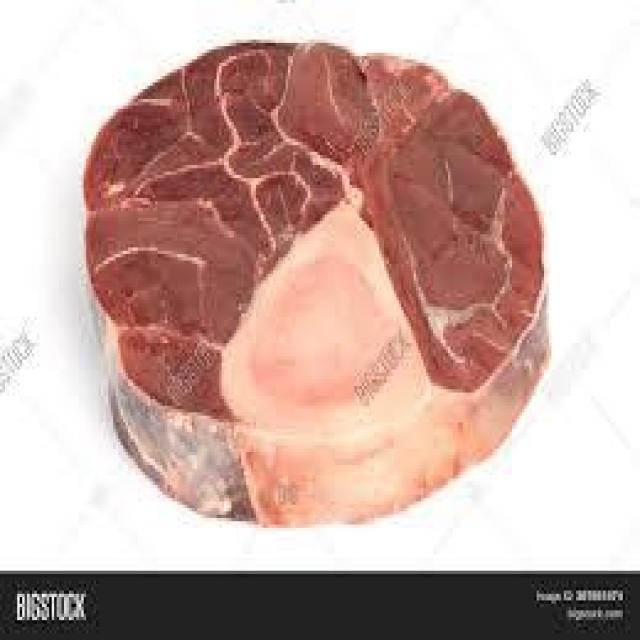beef: (77, 30, 537, 342)
